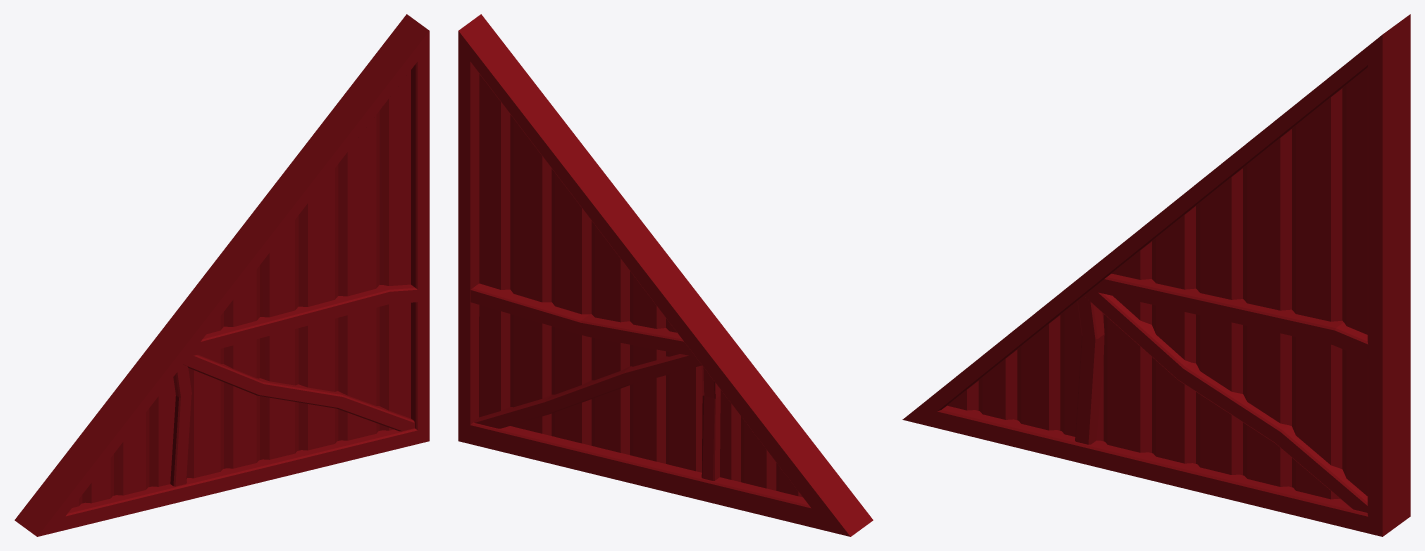
File: SM_MH_01_Wood_03_Wall_Roof_L_01.fbx
The picture shows the model from 3 angles, left to right: view 1: azimuth 30°, elevation 25°; view 2: azimuth 150°, elevation 25°; view 3: azimuth 330°, elevation 25°; orthographic projection. The views are drawn at different scales.
Visible parts, largest first — view 1: SM_MH_01_Wood_03_Wall_Roof_L_01_LOD0; view 2: SM_MH_01_Wood_03_Wall_Roof_L_01_LOD0; view 3: SM_MH_01_Wood_03_Wall_Roof_L_01_LOD0.
Boxes of the visible parts, x1,y1,x2,y2 form: SM_MH_01_Wood_03_Wall_Roof_L_01_LOD0: (14,14,429,536); SM_MH_01_Wood_03_Wall_Roof_L_01_LOD0: (458,14,873,536); SM_MH_01_Wood_03_Wall_Roof_L_01_LOD0: (902,14,1410,536).
Size of what is drawn, in the model's own units: 300 by 300 by 30.2.
